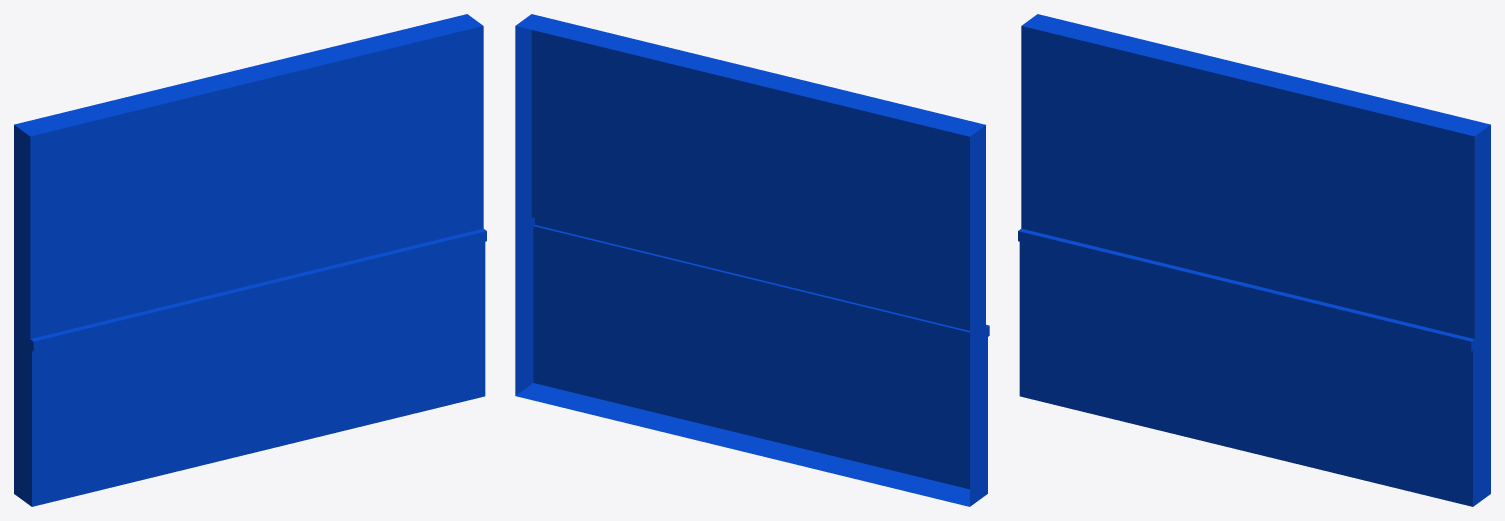
The model's file is SecurityWall.fbx.
3 views of the same model, side by side, from view 1: azimuth 30°, elevation 25°; view 2: azimuth 150°, elevation 25°; view 3: azimuth 330°, elevation 25° (orthographic).
Parts seen in each view (by area): view 1: SecurityWall; view 2: SecurityWall; view 3: SecurityWall.
Boxes of the visible parts, <box> form: SecurityWall: <box>14,14,486,506</box>; SecurityWall: <box>515,14,989,506</box>; SecurityWall: <box>1018,14,1490,506</box>.
Size of the model in its own units: 273 by 350 by 26.32.
